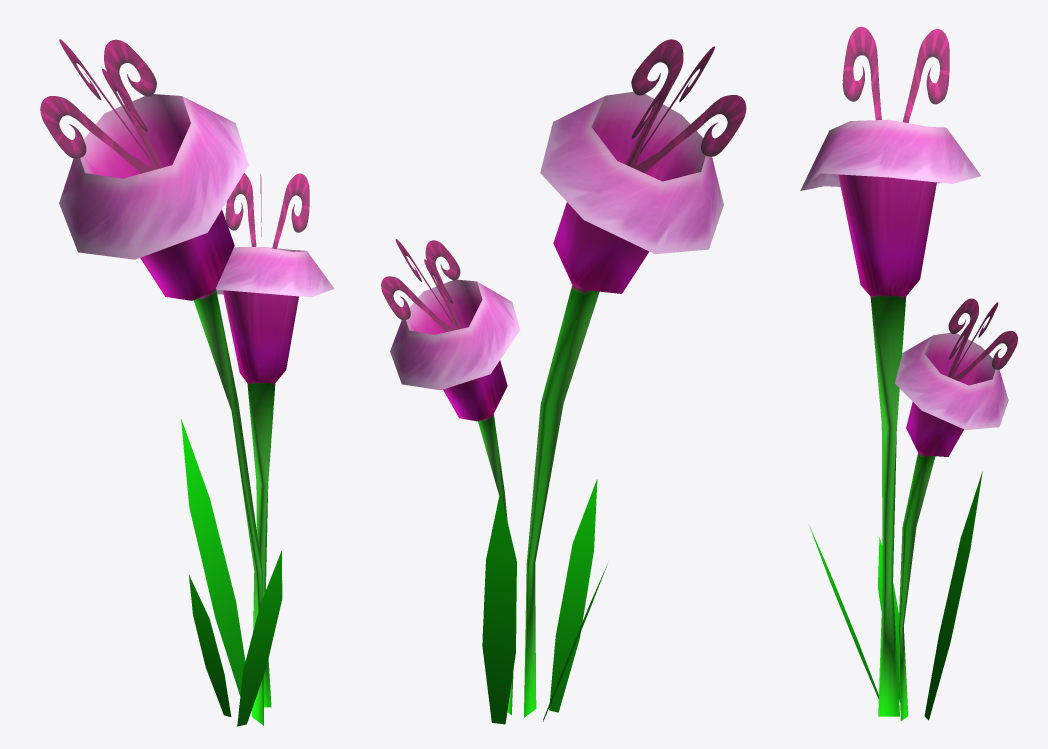
Rendered from flower.FBX.
3 views of the same model, side by side, from view 1: azimuth 30°, elevation 25°; view 2: azimuth 150°, elevation 25°; view 3: azimuth 270°, elevation 25° (orthographic). The views are drawn at different scales.
Parts seen in each view (by area): view 1: flower1, flower2; view 2: flower1, flower2; view 3: flower1, flower2.
Boxes of the visible parts, x1,y1,x2,y2 form: flower1: (59, 94, 334, 725); flower2: (40, 39, 309, 726); flower1: (390, 91, 723, 717); flower2: (381, 39, 746, 724); flower1: (800, 119, 1008, 720); flower2: (809, 26, 1017, 720).
Size of the model in its own units: 0.9278 by 0.6058 by 1.85.
